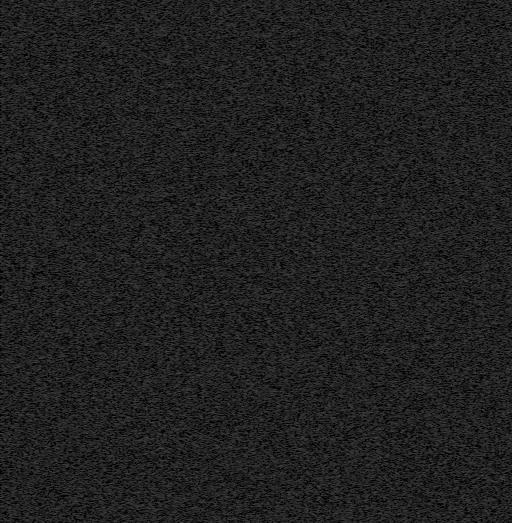wv_am: (29, 0, 34, 486), (29, 491, 34, 522)
wv_cw: (448, 0, 454, 522)
wv_lsb: (40, 146, 45, 361), (40, 4, 45, 145), (40, 408, 45, 522), (34, 430, 39, 510), (34, 119, 39, 158), (35, 200, 39, 221), (40, 377, 45, 391), (35, 265, 39, 280), (35, 159, 39, 172), (35, 308, 38, 322), (35, 185, 38, 199), (34, 514, 39, 522), (40, 392, 45, 400), (34, 173, 39, 181), (35, 281, 38, 292), (40, 369, 45, 375), (40, 362, 45, 368), (35, 343, 39, 350), (35, 406, 38, 415), (35, 371, 38, 380), (35, 351, 38, 360), (35, 323, 38, 332), (35, 244, 39, 250), (35, 222, 38, 229), (41, 401, 45, 406), (35, 300, 38, 306), (35, 396, 38, 401), (35, 337, 38, 342), (35, 293, 38, 298), (35, 236, 38, 241), (35, 230, 38, 235), (35, 418, 38, 422), (35, 361, 38, 365), (35, 426, 38, 429), (35, 258, 38, 261)
wv_usb: (144, 33, 149, 114), (144, 124, 149, 197), (144, 357, 149, 411), (144, 226, 149, 280), (144, 429, 149, 467), (144, 291, 149, 326), (144, 468, 149, 495), (144, 5, 149, 32), (144, 496, 149, 519), (144, 327, 149, 346), (144, 412, 149, 428), (144, 214, 149, 224), (144, 281, 149, 290), (144, 198, 149, 206), (144, 347, 149, 354), (144, 116, 149, 123), (144, 209, 149, 213)
wv_wbfm: (13, 0, 28, 522)
